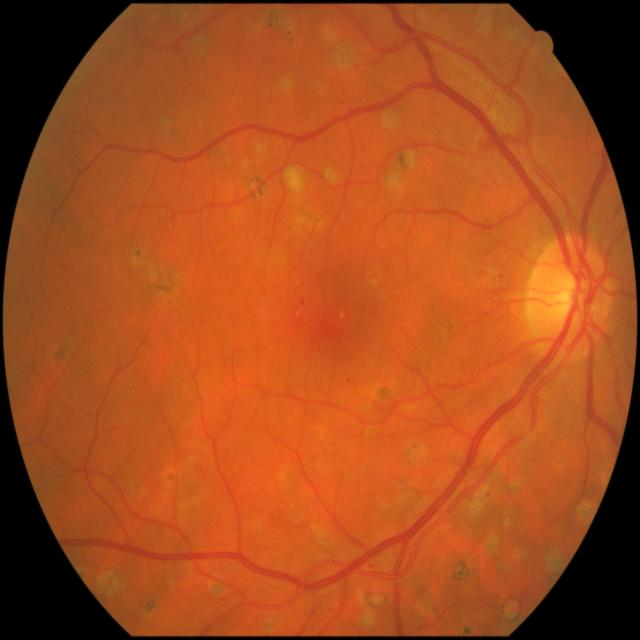OC: (561, 268, 589, 314)
OD: (526, 236, 615, 351)
